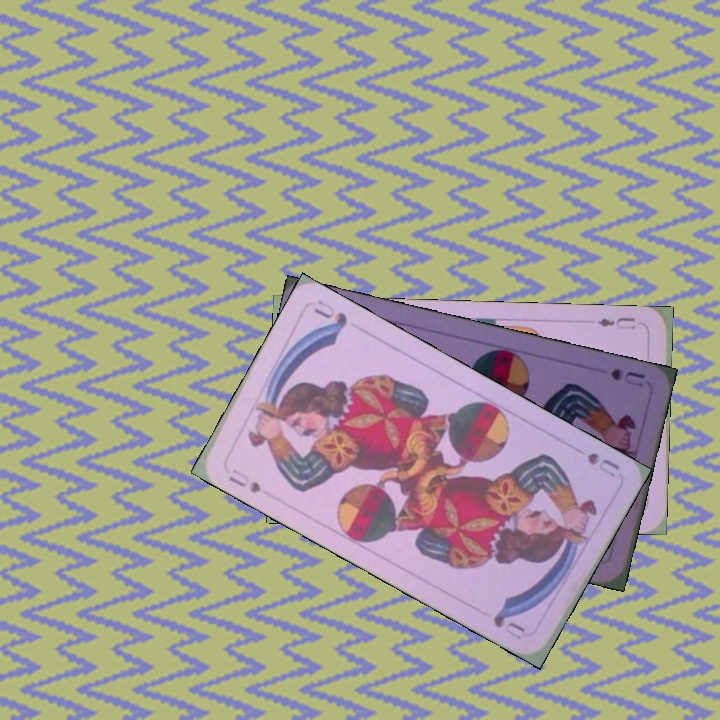EU: (593, 313, 646, 331)
SU: (582, 448, 623, 480), (225, 464, 264, 496), (606, 364, 648, 389)
